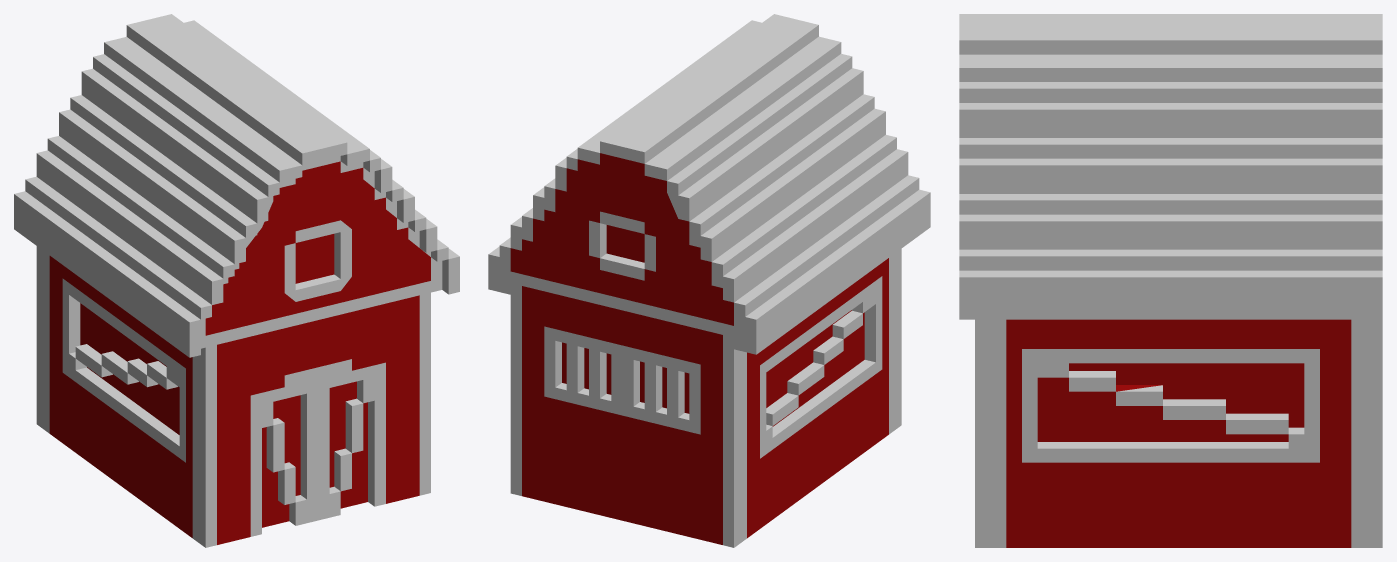
File: barn.fbx
The picture shows the model from 3 angles, left to right: view 1: azimuth 30°, elevation 25°; view 2: azimuth 150°, elevation 25°; view 3: azimuth 270°, elevation 25°; orthographic projection. The views are drawn at different scales.
Visible parts, largest first — view 1: voxel_0_House:Mesh; view 2: voxel_0_House:Mesh; view 3: voxel_0_House:Mesh.
Part boxes in pixels (x1,y1,x2,y2): voxel_0_House:Mesh: [14, 14, 459, 547]; voxel_0_House:Mesh: [488, 14, 930, 547]; voxel_0_House:Mesh: [959, 14, 1382, 547].
Bounding box in the file's own units: 2.4 × 3.2 × 2.7.
